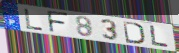3: (100, 18, 120, 41)
8: (75, 15, 94, 38)
D: (122, 20, 146, 46)
F: (46, 10, 71, 34)
L: (148, 25, 171, 48), (23, 8, 45, 32)
